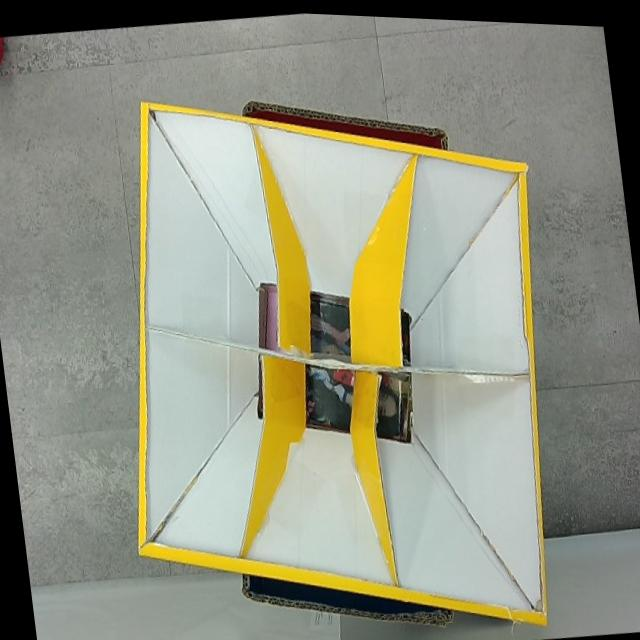box: (82, 50, 583, 640)
